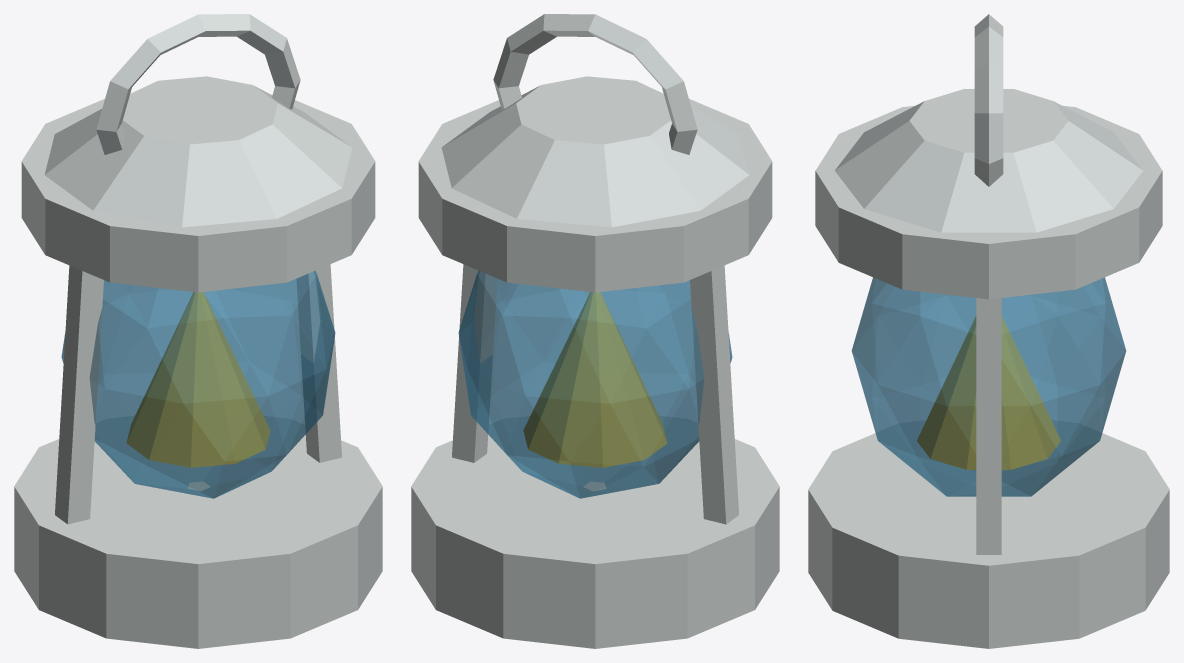
The model's file is reliquia_lampiao.glb.
3 views of the same model, side by side, from view 1: azimuth 30°, elevation 25°; view 2: azimuth 150°, elevation 25°; view 3: azimuth 270°, elevation 25° (orthographic).
Visible parts, largest first — view 1: reliquia_lampiao; view 2: reliquia_lampiao; view 3: reliquia_lampiao.
Boxes of the visible parts, x1,y1,x2,y2 form: reliquia_lampiao: [14, 14, 382, 648]; reliquia_lampiao: [411, 14, 779, 648]; reliquia_lampiao: [808, 14, 1169, 648].
Bounding box in the file's own units: 1.5 × 2.5 × 1.5.
